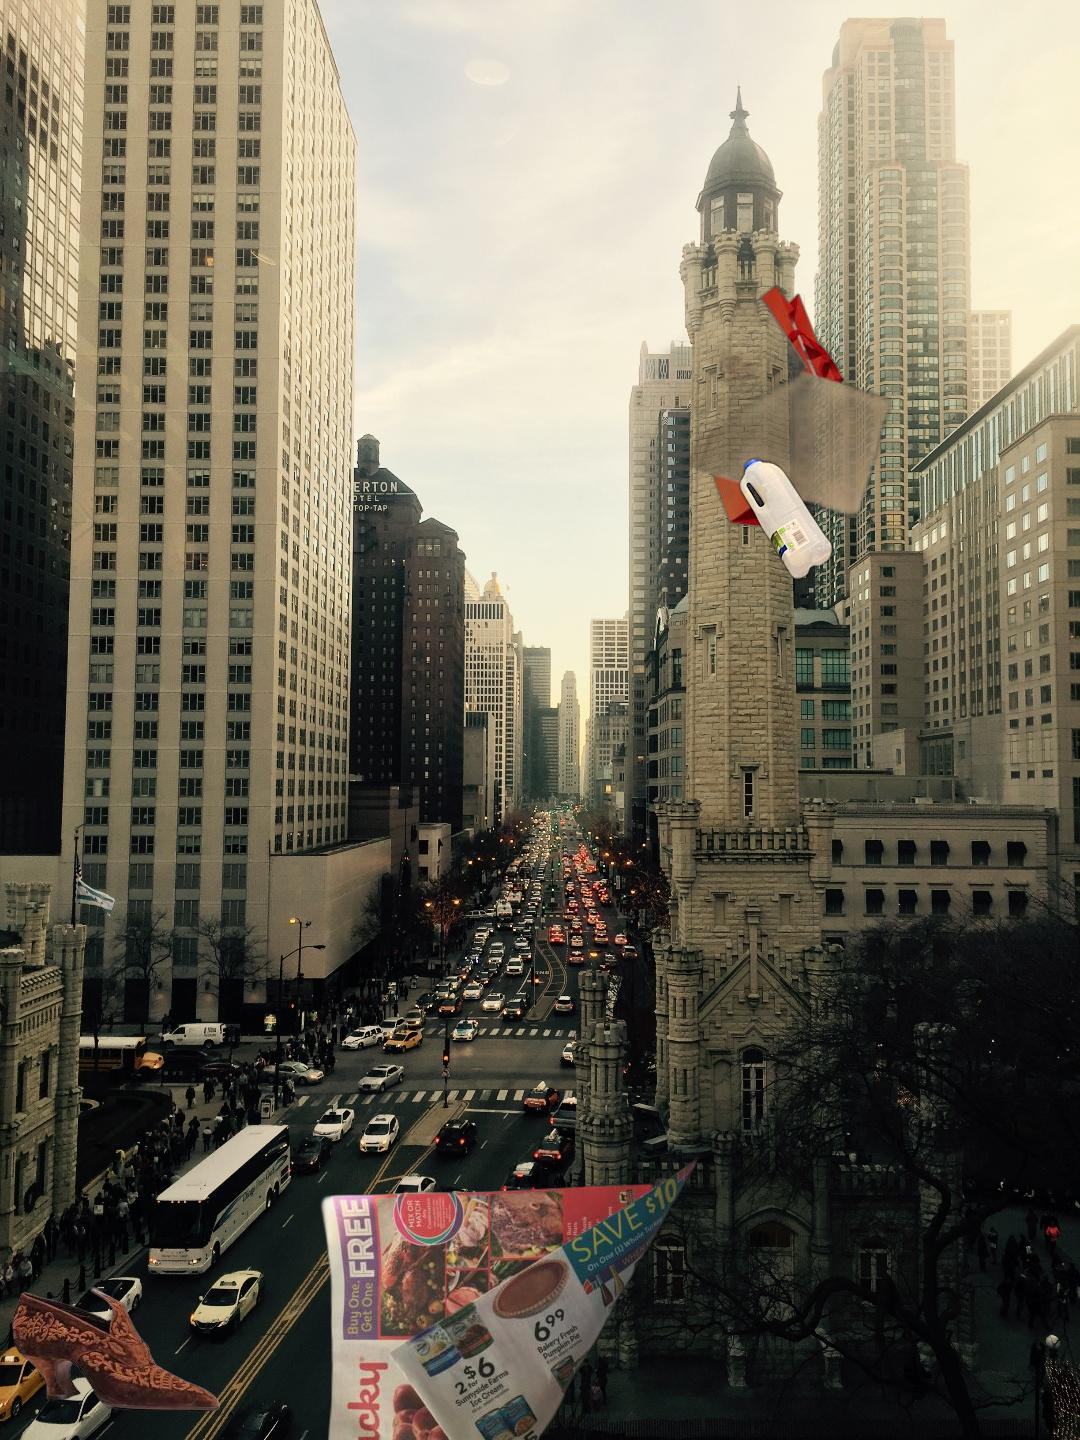paper: (317, 1147, 704, 1440)
paper-bag: (631, 246, 903, 546)
plastic-bottles: (736, 452, 836, 585)
shoes: (9, 1284, 223, 1414)
trashbox-cardboard: (1074, 847, 1080, 1440)
